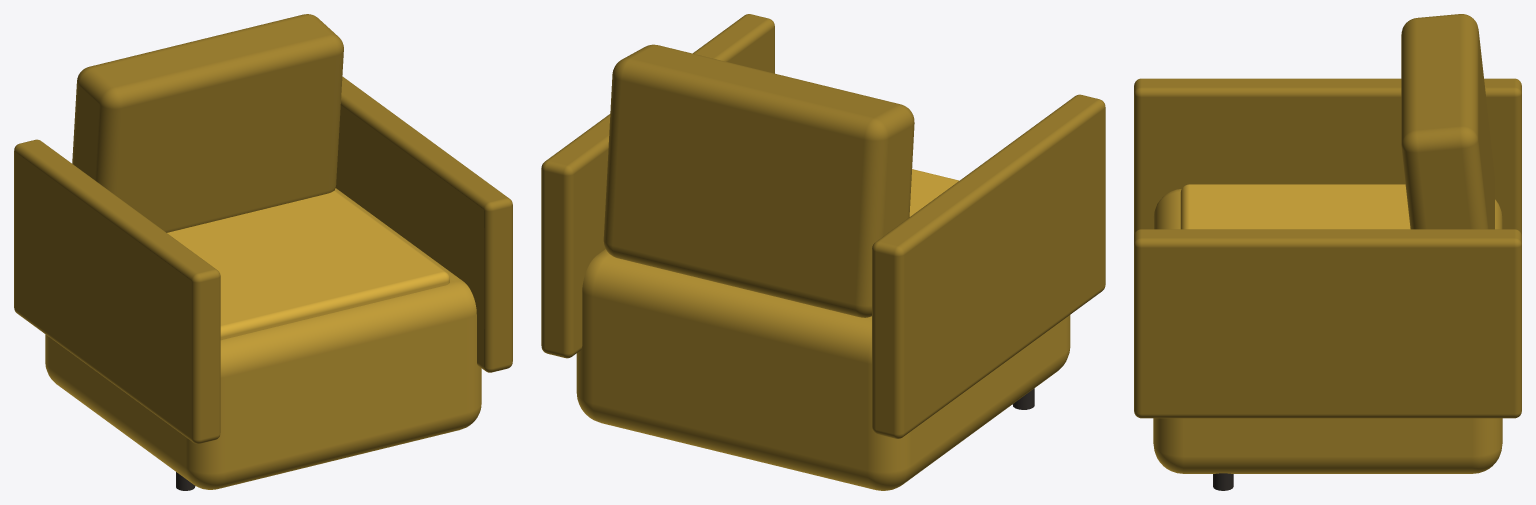
3 renders of one model, left to right at view 1: azimuth 30°, elevation 25°; view 2: azimuth 150°, elevation 25°; view 3: azimuth 270°, elevation 25°, orthographic. The views are drawn at different scales.
Parts seen in each view (by area): view 1: seat-base, back-cushion-1, arm-left, seat-cushion-1, arm-right; view 2: back-cushion-1, seat-base, arm-left, arm-right, seat-cushion-1; view 3: arm-right, arm-left, seat-base, back-cushion-1, seat-cushion-1.
Part boxes in pixels (x1,y1,x2,y2): seat-base: [45, 188, 481, 489]; back-cushion-1: [72, 14, 343, 232]; arm-left: [14, 139, 220, 443]; seat-cushion-1: [167, 190, 449, 340]; arm-right: [335, 76, 512, 372]; back-cushion-1: [603, 44, 914, 317]; seat-base: [576, 249, 1070, 490]; arm-left: [872, 94, 1105, 438]; arm-right: [541, 14, 774, 358]; seat-cushion-1: [909, 169, 958, 216]; arm-right: [1134, 229, 1521, 418]; arm-left: [1134, 78, 1521, 235]; seat-base: [1153, 189, 1502, 473]; back-cushion-1: [1401, 14, 1494, 229]; seat-cushion-1: [1180, 184, 1410, 229].
Bounding box in the file's own units: 0.9064 × 0.8963 × 0.9.
